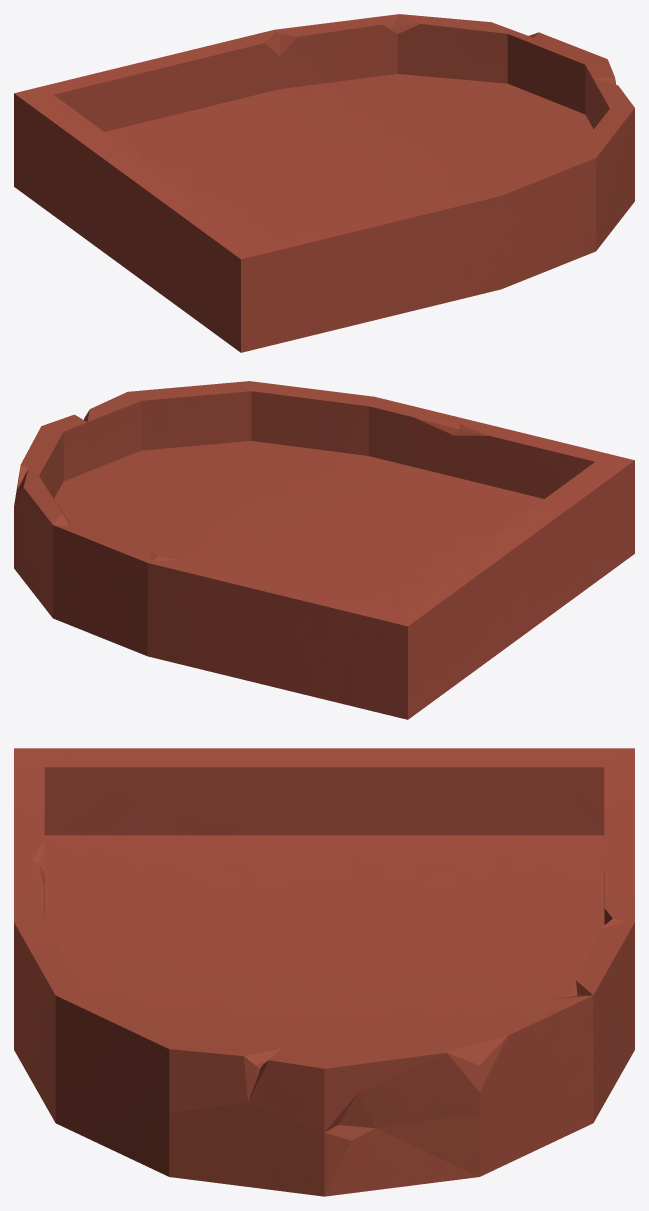
Rendered from Zhuanpan 1.fbx.
3 renders of one model, top to bottom at view 1: azimuth 30°, elevation 25°; view 2: azimuth 150°, elevation 25°; view 3: azimuth 270°, elevation 25°, orthographic. The views are drawn at different scales.
Parts seen in each view (by area): view 1: 圆环.002; view 2: 圆环.002; view 3: 圆环.002.
Boxes of the visible parts, box(x1,y1,x2,y2) form: 圆环.002: box(14, 14, 634, 352); 圆环.002: box(14, 381, 634, 719); 圆环.002: box(14, 748, 634, 1196).
Bounding box in the file's own units: 37.33 × 7.5 × 30.57.
